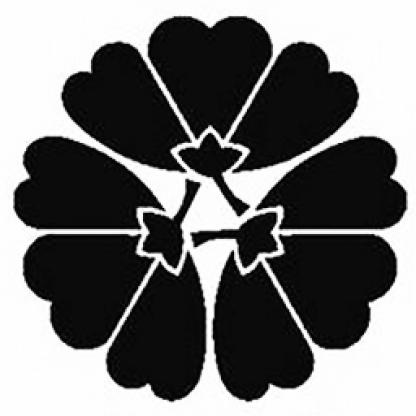kamon: (12, 13, 406, 401)
